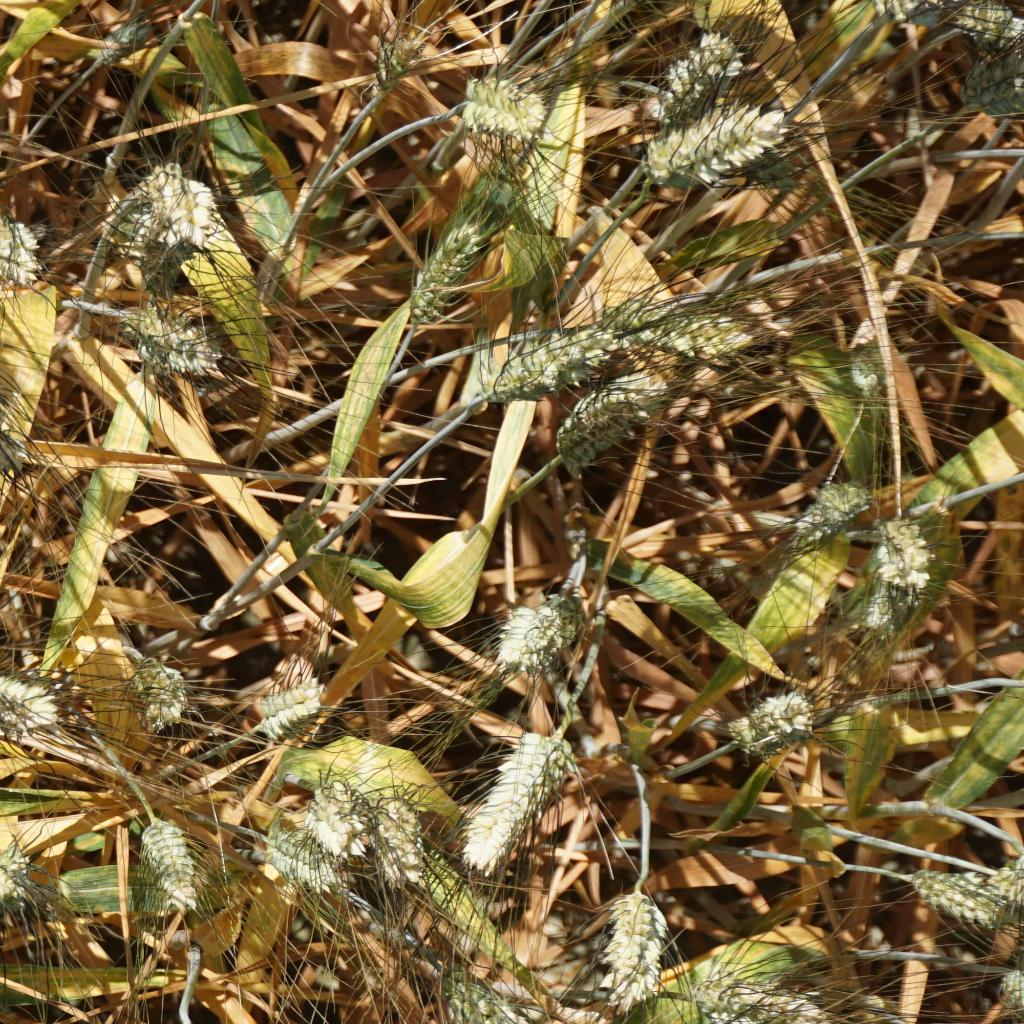0-0: (459, 720, 567, 862), (630, 102, 779, 192), (399, 210, 505, 330), (555, 379, 672, 480), (589, 877, 672, 1017), (116, 304, 242, 395), (128, 165, 233, 254), (132, 815, 217, 922), (439, 69, 550, 148), (700, 961, 828, 1024), (500, 325, 600, 403), (727, 680, 818, 762), (644, 33, 739, 109), (442, 967, 566, 1024), (364, 785, 427, 896), (621, 293, 727, 358), (781, 476, 864, 556), (256, 826, 340, 905), (950, 38, 1024, 124), (869, 520, 922, 626), (909, 869, 1001, 930), (253, 667, 328, 741), (0, 192, 53, 294), (124, 653, 195, 721), (0, 392, 46, 495), (300, 775, 358, 856), (524, 605, 587, 671), (851, 339, 905, 413), (0, 662, 59, 729), (364, 25, 428, 83), (0, 849, 46, 926), (954, 0, 1004, 53), (492, 604, 532, 670), (986, 961, 1024, 1020)
